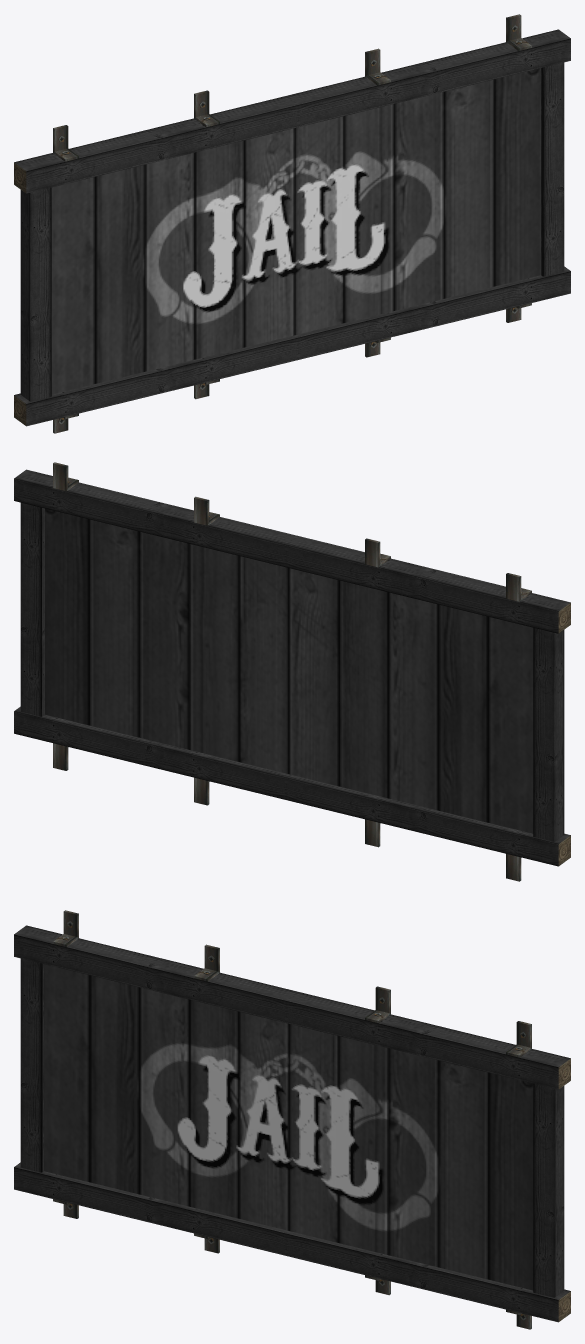
The model's file is signs-02.fbx.
The picture shows the model from 3 angles, top to bottom: view 1: azimuth 30°, elevation 25°; view 2: azimuth 150°, elevation 25°; view 3: azimuth 330°, elevation 25°; orthographic projection.
Visible parts, largest first — view 1: Cube.132; view 2: Cube.132; view 3: Cube.132.
Boxes of the visible parts, x1,y1,x2,y2 form: Cube.132: [14, 14, 570, 433]; Cube.132: [14, 462, 570, 881]; Cube.132: [14, 910, 570, 1329].
Bounding box in the file's own units: 2.45 × 1.31 × 0.096.
